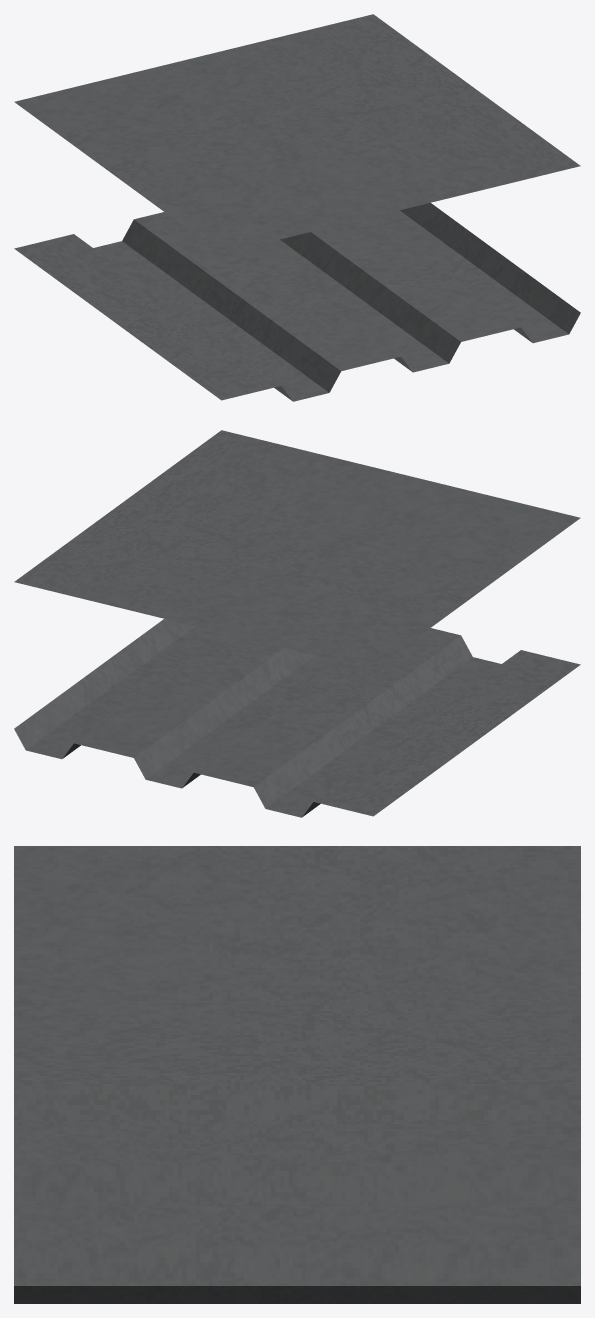
Rendered from GasRoof_0.glb.
The picture shows the model from 3 angles, top to bottom: view 1: azimuth 30°, elevation 25°; view 2: azimuth 150°, elevation 25°; view 3: azimuth 270°, elevation 25°; orthographic projection. The views are drawn at different scales.
Parts seen in each view (by area): view 1: GasRoof_0.001; view 2: GasRoof_0.001; view 3: GasRoof_0.001.
Boxes of the visible parts, x1,y1,x2,y2 form: GasRoof_0.001: (14,14,580,401); GasRoof_0.001: (14,430,580,817); GasRoof_0.001: (14,846,580,1303).
Bounding box in the file's own units: 2 × 0.88 × 2.
Materials: 1 (1 with a texture image).
